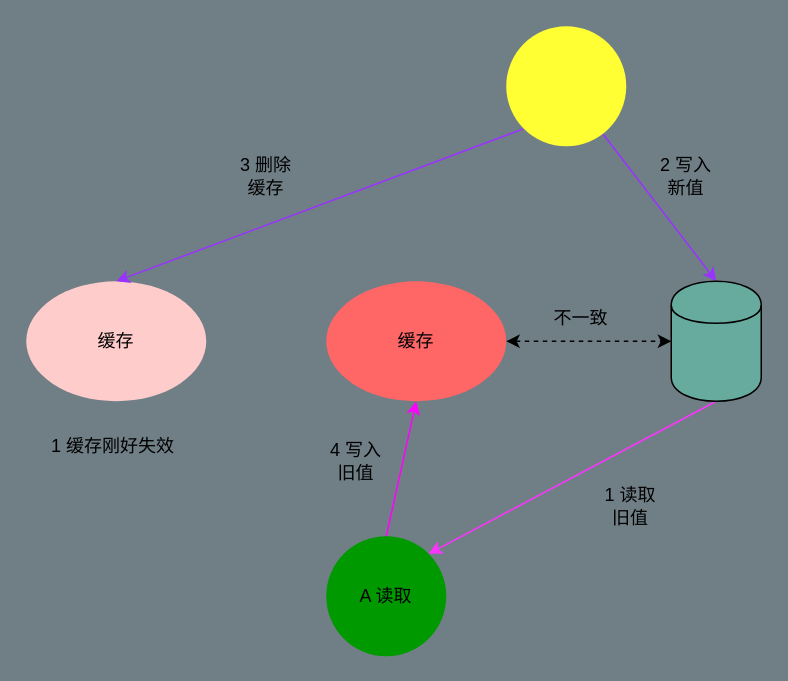
Image size: 788x681. Some labels were removed from this diagram. The shapes that lost their labels are listed below. From the top down, each one's centre as x and y in pixels, then its label:
At point (566, 86): "B 更新".
At point (715, 340): "数据库".
